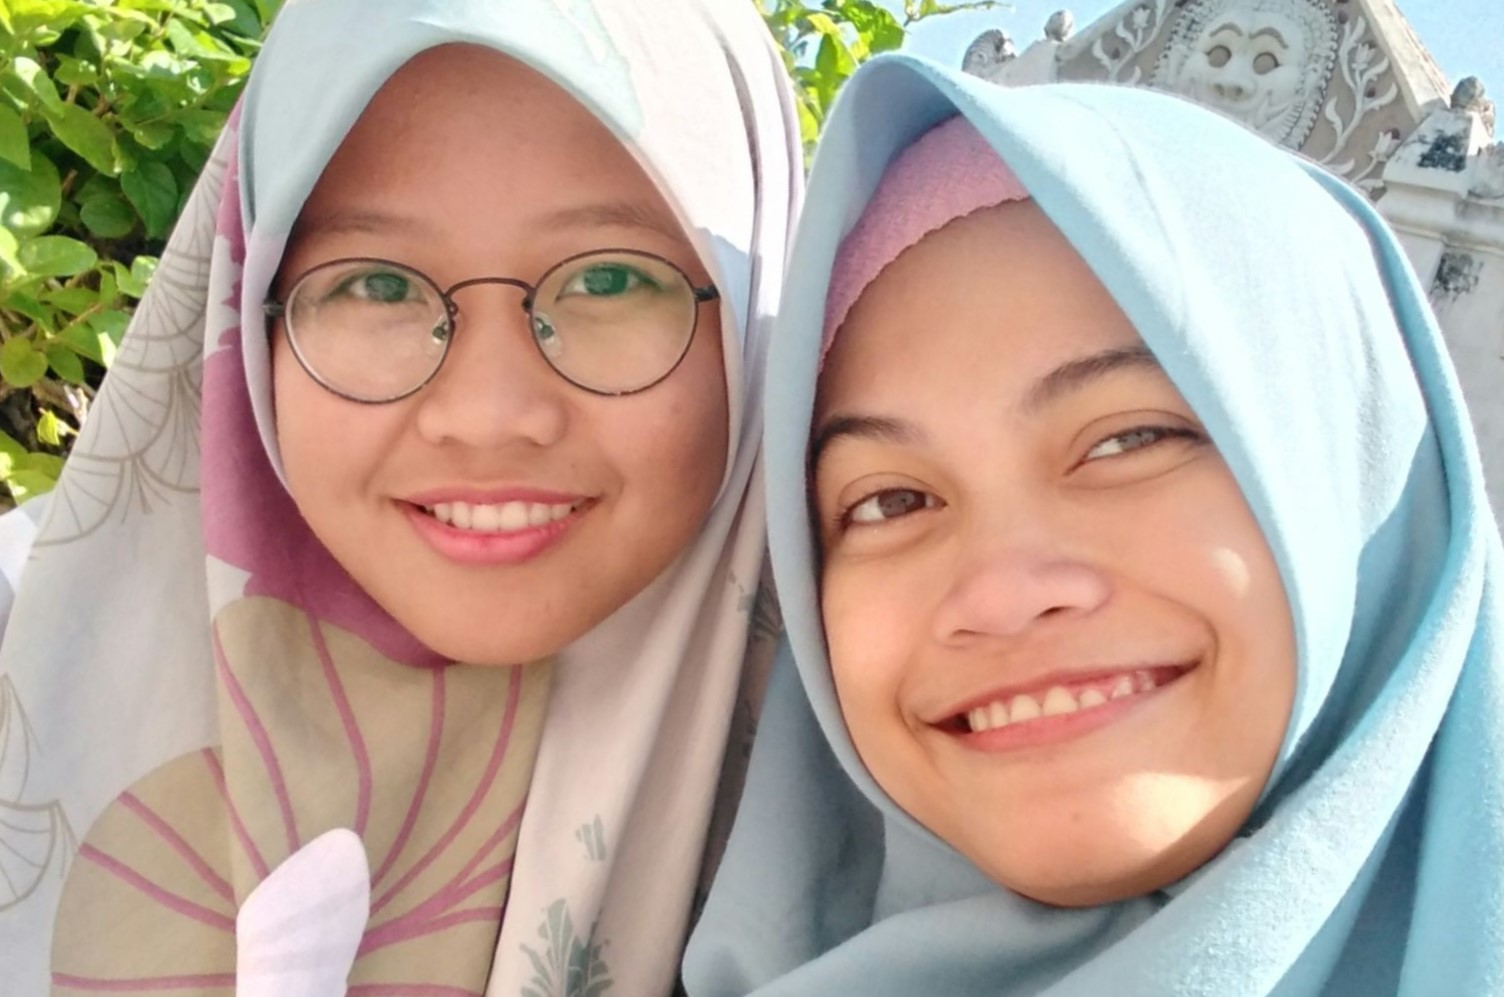face: (226, 92, 756, 622), (245, 299, 490, 544)
